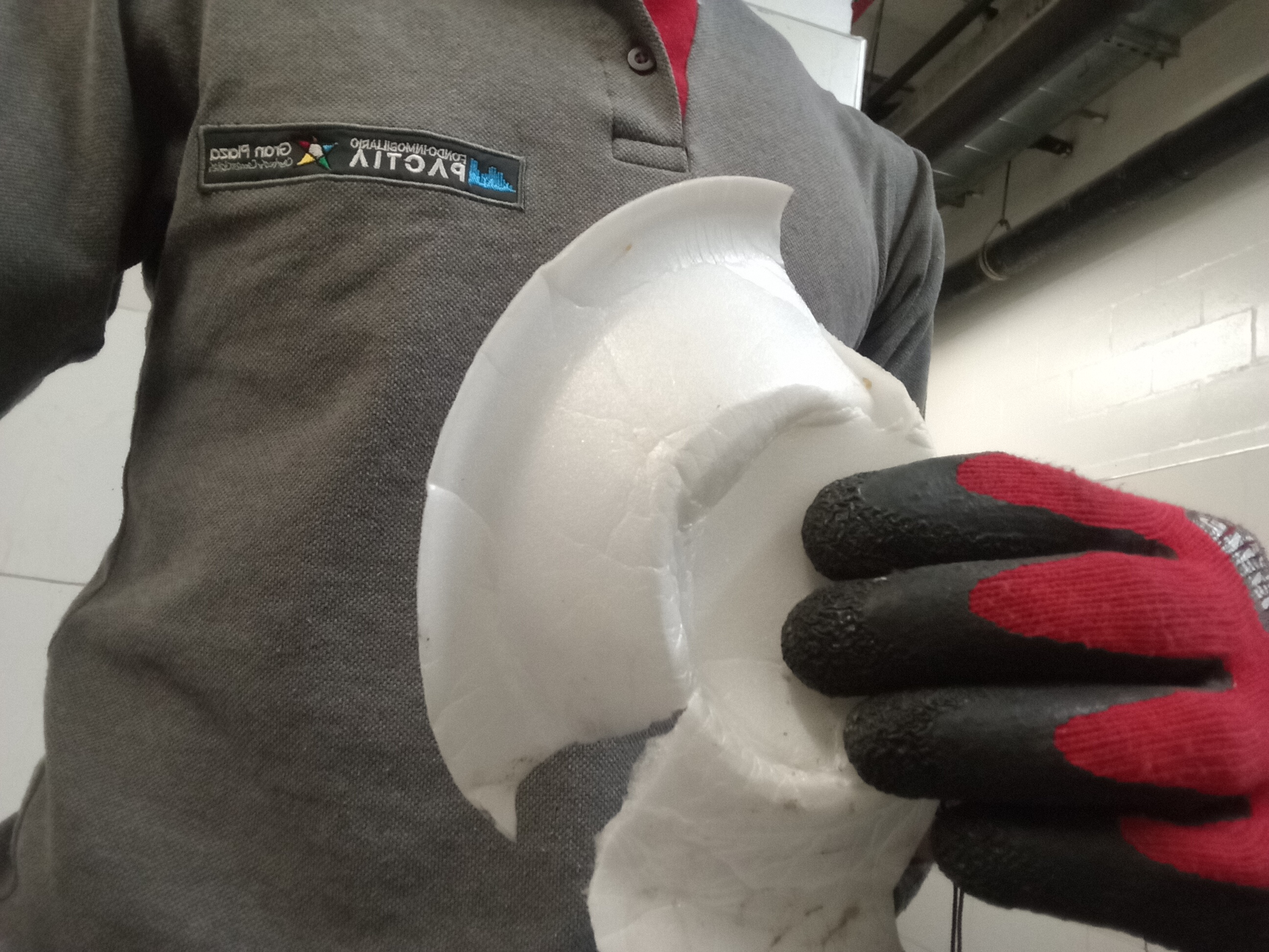Ordinario: (413, 175, 938, 952)
